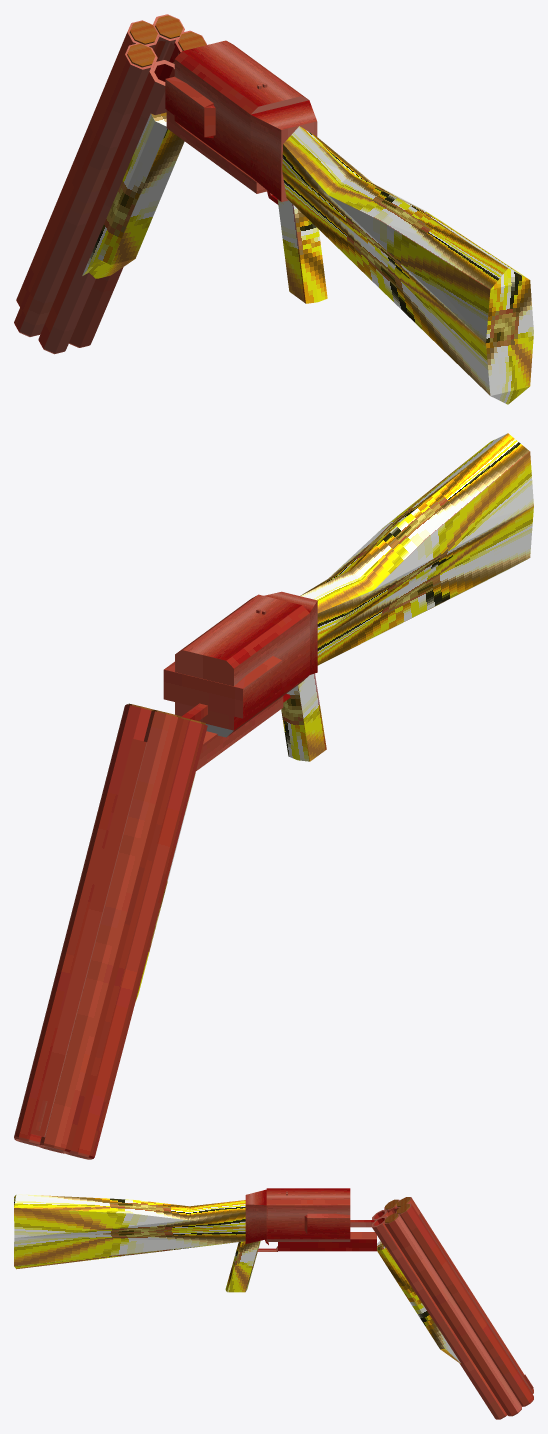
The model's file is six_barrels_shotgun_reloading_4.obj.
3 renders of one model, top to bottom at view 1: azimuth 30°, elevation 25°; view 2: azimuth 150°, elevation 25°; view 3: azimuth 270°, elevation 25°, orthographic. The views are drawn at different scales.
Visible parts, largest first — view 1: Torus.009_Torus.008, Torus.000, Torus.001, Torus.003, Torus.002; view 2: Torus.009_Torus.008, Torus.000; view 3: Torus.009_Torus.008, Torus.000.
Boxes of the visible parts, bbox=[...] form: Torus.009_Torus.008: bbox=[165, 40, 533, 404]; Torus.000: bbox=[14, 14, 206, 354]; Torus.001: bbox=[155, 15, 183, 38]; Torus.003: bbox=[127, 43, 155, 67]; Torus.002: bbox=[129, 21, 157, 44]; Torus.009_Torus.008: bbox=[163, 433, 533, 770]; Torus.000: bbox=[14, 704, 207, 1159]; Torus.009_Torus.008: bbox=[14, 1188, 376, 1292]; Torus.000: bbox=[372, 1197, 533, 1419].
Bounding box in the file's own units: 0.6336 × 3.09 × 6.56.
